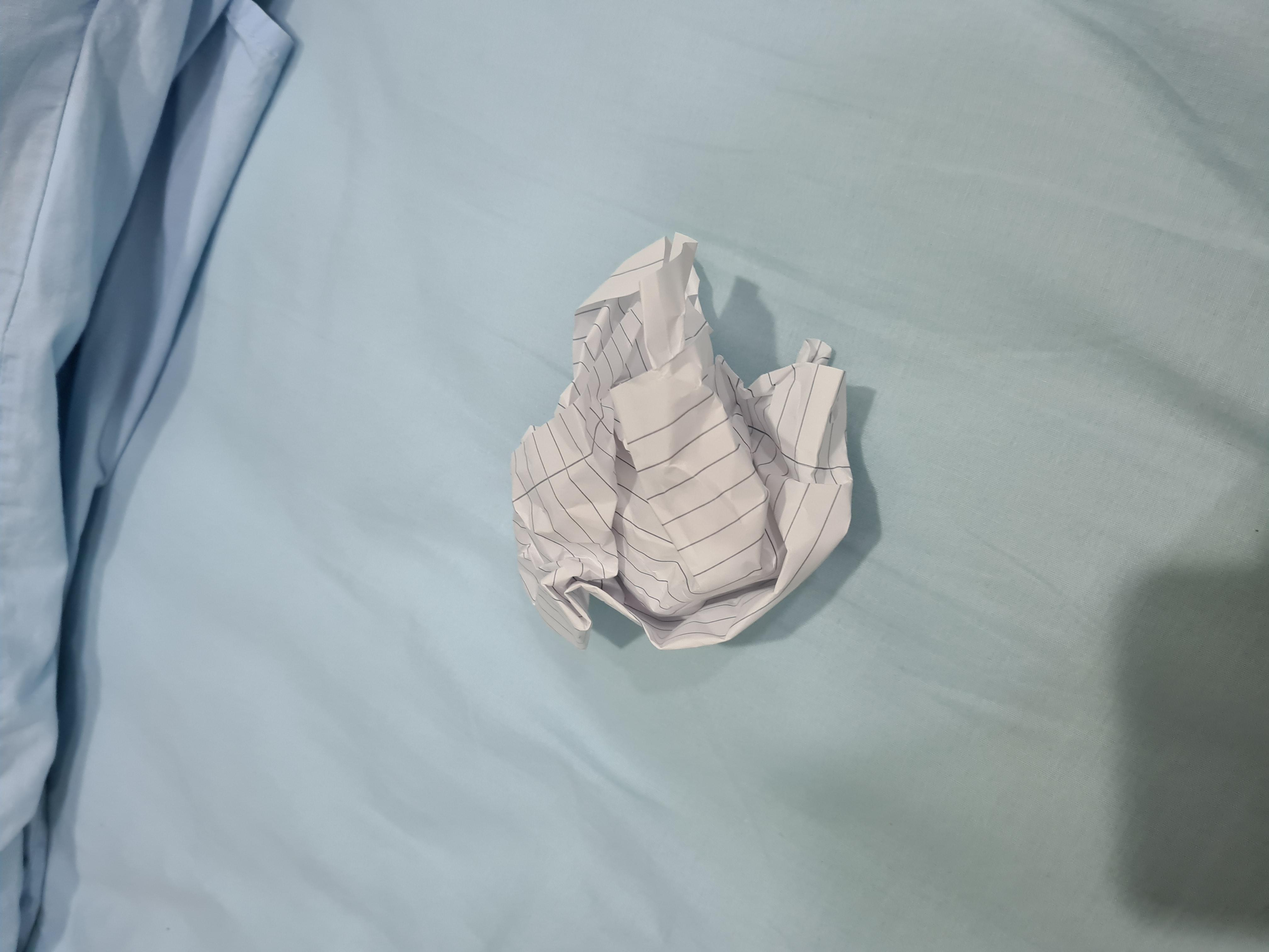paper: (399, 381, 958, 648)
